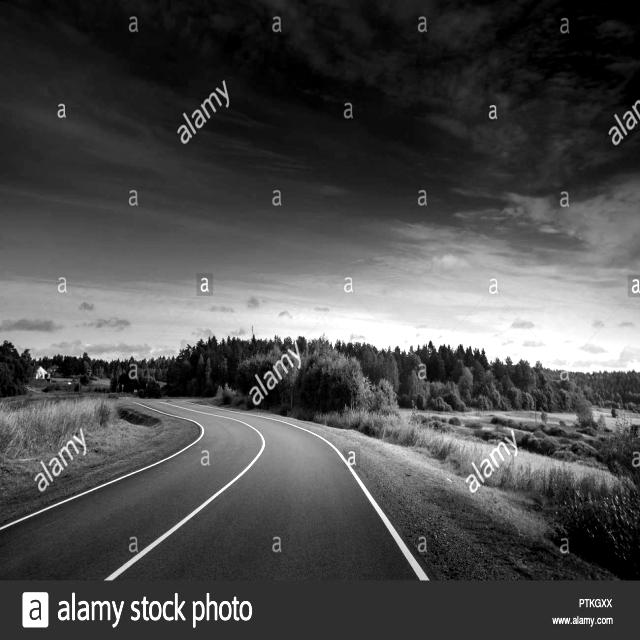cleat: (18, 310, 479, 640)
